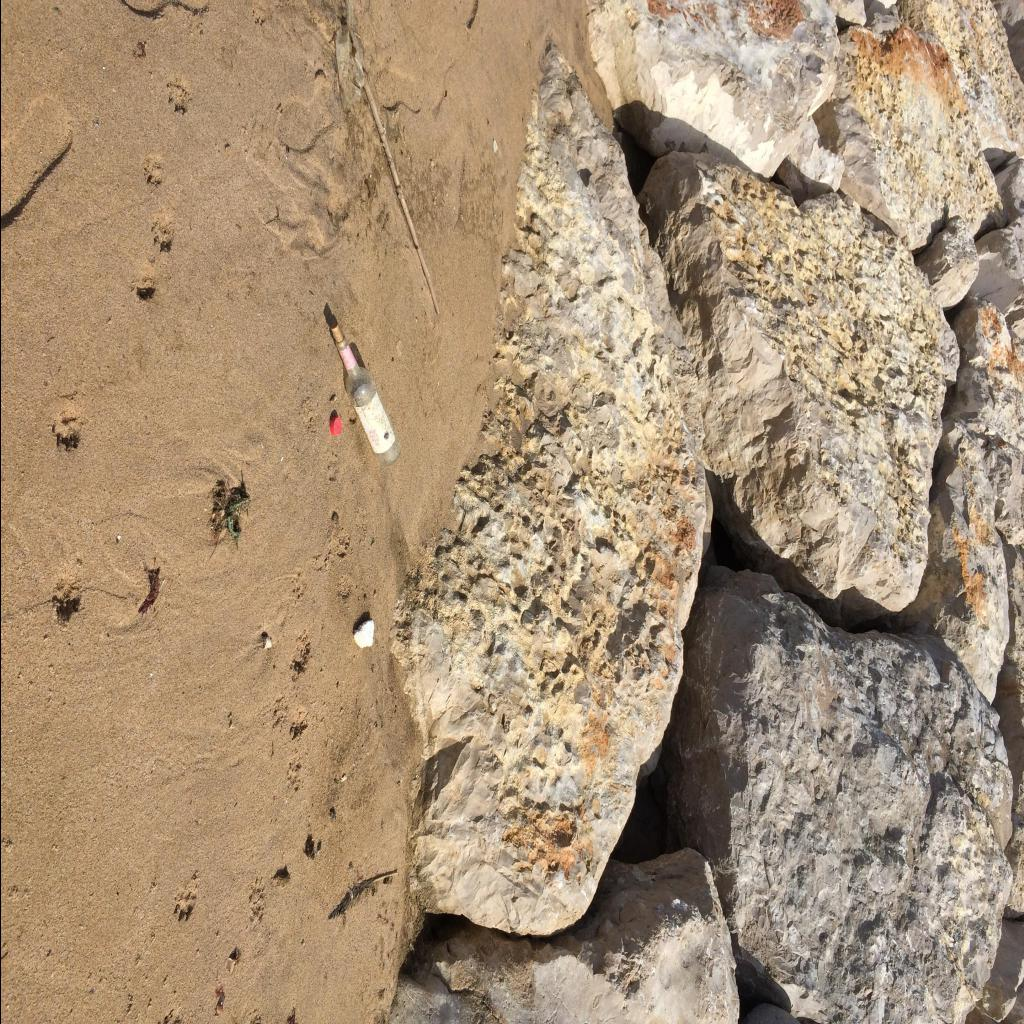Glass bottle: (334, 336, 400, 466)
Plastic bottle cap: (329, 416, 341, 436)
Plastic film: (334, 1, 364, 105)
Rope - strings: (226, 494, 250, 542)
Styrofoam piece: (352, 620, 374, 648)
